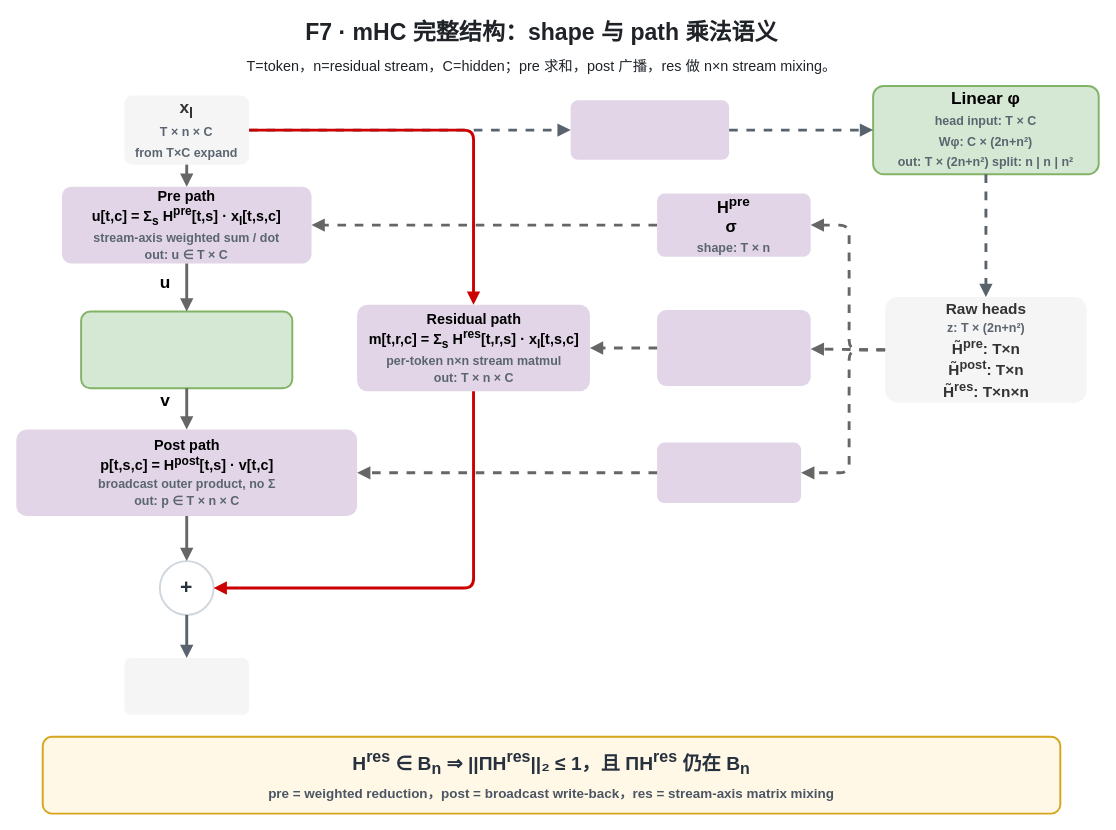
The diagram is 1116 pixels wide and 830 high, and some of its shapes have lost their labels. The centre of each missing label's shape, as x and y in pixels:
"H post 2σ shape: T × n" goes at point 729,472.
"H res Sinkhorn(exp(H̃ res )) shape: T × n × n" goes at point 733,347.
"Layer F v = F(u) in u: T × C → out v: T × C" goes at point 186,349.
"RMSNorm T × n × C" goes at point 649,129.
"x l+1 T × n × C" goes at point 186,686.
